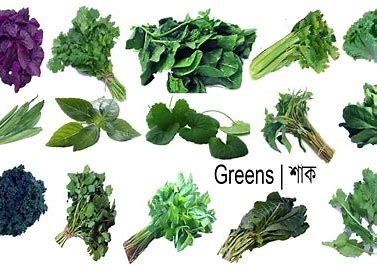inorganic: (131, 13, 251, 90), (254, 9, 337, 85), (141, 95, 247, 153), (51, 6, 123, 85), (135, 170, 220, 236), (258, 86, 332, 158), (54, 91, 136, 153), (55, 166, 114, 241), (228, 187, 307, 242), (326, 165, 377, 244), (0, 161, 46, 242), (1, 8, 41, 83), (337, 79, 377, 146), (3, 93, 48, 146), (345, 8, 373, 64)
